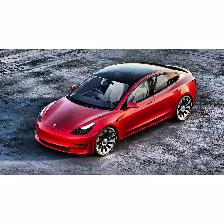EV: (35, 61, 199, 160)
